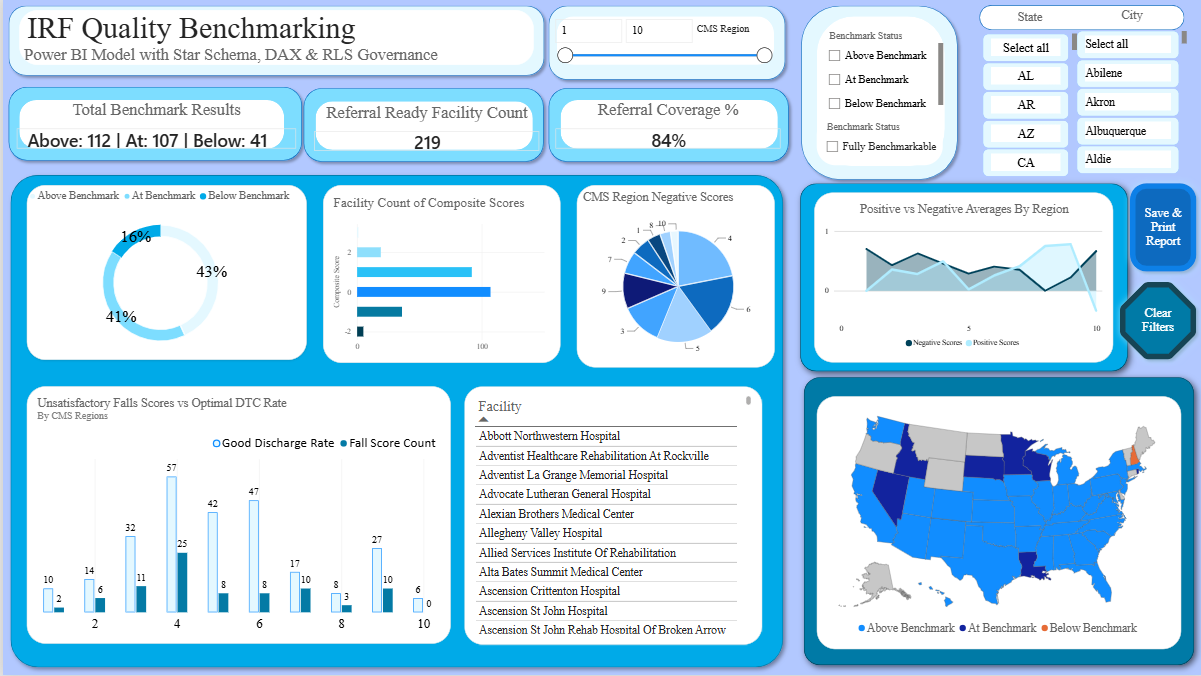

Layout of this report page (visuals, bound fields, positions):
{"tool":"powerbi","page":{"name":"Dashboard","canvas":[1920,1080],"ordinal":0},"visuals":[{"type":"shape","box":[0,0,875,130],"z":0},{"type":"shape","box":[0,130.4,487.2,135.8],"z":1000},{"type":"textbox","box":[25,16.7,823.3,88.3],"z":2000},{"type":"shape","box":[25.4,159.4,423.8,77.9],"z":3000},{"type":"cardVisual","title":"Total Benchmark Results","fields":{"Data":["irf_composite_index.Composite KPI Summary"]},"box":[21.7,159.4,447.4,77.9],"z":4000},{"type":"shape","box":[472.8,132.2,402.1,135.8],"z":5000},{"type":"shape","box":[499.9,161.2,347.8,77.9],"z":6000},{"type":"cardVisual","title":"Referral Ready Facility Count","fields":{"Data":["irf_composite_index.Referral-Ready Facilities"]},"box":[498.1,163,360.5,77.9],"z":7000},{"type":"shape","box":[864,132.2,402.1,135.8],"z":8000},{"type":"shape","box":[891.2,159.4,347.8,77.9],"z":9000},{"type":"shape","box":[0,268.3,1260,811.7],"z":10000},{"type":"cardVisual","title":"Referral Coverage %","fields":{"Data":["irf_composite_index.Referral Coverage %"]},"box":[883.9,159.4,360.5,77.9],"z":11000},{"type":"clusteredBarChart","title":"Facility Count of Composite Scores","fields":{"Category":["irf_composite_index.composite_score"],"Y":["CountNonNull(irf_composite_index.ccn)"]},"box":[511.7,296.7,380,285],"z":12000},{"type":"shape","box":[863.3,0,396.7,136.7],"z":13000},{"type":"shape","box":[886.7,26.7,347.8,77.9],"z":14000},{"type":"slicer","fields":{"Values":["irf_composite_index.cms_region"]},"box":[876.7,25,358.3,90],"z":15000},{"type":"textbox","box":[1110,35,105,35],"z":16000},{"type":"shape","box":[1268.3,0,268.3,296.7],"z":17000},{"type":"shape","box":[1301.7,25,205,240],"z":18000},{"type":"textbox","box":[1322,0,246,150],"z":19000},{"type":"shape","box":[1260,278.3,555,331.7],"z":20000},{"type":"slicer","fields":{"Values":["irf_composite_index.benchmark_status"]},"box":[1301.7,186.7,201.7,78.3],"z":21000},{"type":"slicer","fields":{"Values":["irf_composite_index.composite_score_measures"]},"box":[1313.3,48.3,190,131.7],"z":22000},{"type":"shape","box":[1561.7,8.3,328.3,40],"z":24000},{"type":"shape","box":[1265,588.3,655,491.7],"z":25000},{"type":"advancedSlicerVisual","title":"City","fields":{"Values":["irf_composite_index.city"]},"box":[1718.3,11.7,176.7,266.7],"z":26000},{"type":"advancedSlicerVisual","title":"State","fields":{"Values":["irf_composite_index.state"]},"box":[1568.3,15,150,266.7],"z":27000},{"type":"tableEx","title":"Facilities","fields":{"Values":["irf_composite_index.provider_name"]},"box":[738.3,618.3,476.7,413.3],"z":28000},{"type":"donutChart","fields":{"Series":["irf_composite_index.composite_score_measures"],"Y":["Divide(CountNonNull(irf_composite_index.composite_score_measures), ScopedEval(CountNonNull(irf_composite_index.composite"]},"box":[38.3,296.7,448.3,280],"z":29000},{"type":"clusteredColumnChart","title":"Unsatisfactory Falls Scores vs Optimal DTC Rate  ","fields":{"Category":["irf_composite_index.cms_region"],"Y":["CountNonNull(irf_facility_scorecard.dtc_rs_rate_pct)","Sum(irf_composite_index.falls_score)"]},"box":[38.3,618.3,678.3,411.7],"z":30000},{"type":"shapeMap","fields":{"Category":["irf_composite_index.state"],"Series":["irf_composite_index.composite_score_measures"]},"box":[1301.7,633.3,583.3,405],"z":31000},{"type":"pieChart","title":"CMS Region Negative Scores ","fields":{"Category":["irf_facility_scorecard.cms_region"],"Y":["CountNonNull(irf_composite_index.Negative Score Count)"]},"box":[918.3,296.7,316.7,291.7],"z":33000},{"type":"lineChart","title":" Positive vs Negative Averages By Region","fields":{"Category":["irf_facility_scorecard.cms_region"],"Y":["Avg(irf_composite_index.Negative Score Count)","Avg(irf_composite_index.composite_score)"]},"box":[1298.3,308.3,478.3,271.7],"z":34000},{"type":"actionButton","title":"Save & Print Report","box":[1792,282,128.3,163.3],"z":35000},{"type":"actionButton","title":"Save & Print Report","box":[1776,440,144,146],"z":35001}]}

Visuals, with their boxes in screenshot pixels (x1, y1, x2, y2), scaled from the page's 1920x1080 canvas onto the 1201x676 screenshot:
shape: rect(0, 0, 547, 81)
shape: rect(0, 82, 305, 167)
textbox: rect(16, 10, 531, 66)
shape: rect(16, 100, 281, 149)
"Total Benchmark Results" cardVisual: rect(14, 100, 293, 149)
shape: rect(296, 83, 547, 168)
shape: rect(313, 101, 530, 150)
"Referral Ready Facility Count" cardVisual: rect(312, 102, 537, 151)
shape: rect(540, 83, 792, 168)
shape: rect(557, 100, 775, 149)
shape: rect(0, 168, 788, 675)
"Referral Coverage %" cardVisual: rect(553, 100, 778, 149)
"Facility Count of Composite Scores" clusteredBarChart: rect(320, 186, 558, 364)
shape: rect(540, 0, 788, 86)
shape: rect(555, 17, 772, 65)
slicer - irf_composite_index.cms_region: rect(548, 16, 773, 72)
textbox: rect(694, 22, 760, 44)
shape: rect(793, 0, 961, 186)
shape: rect(814, 16, 942, 166)
textbox: rect(827, 0, 981, 94)
shape: rect(788, 174, 1135, 382)
slicer - irf_composite_index.benchmark_status: rect(814, 117, 940, 166)
slicer - irf_composite_index.composite_score_measures: rect(821, 30, 940, 113)
shape: rect(977, 5, 1182, 30)
shape: rect(791, 368, 1200, 675)
"City" advancedSlicerVisual: rect(1075, 7, 1185, 174)
"State" advancedSlicerVisual: rect(981, 9, 1075, 176)
"Facilities" tableEx: rect(462, 387, 760, 646)
donutChart - irf_composite_index.composite_score_measures x Divide(CountNonNull(irf_composite_index.composite_score_measures), ScopedEval(CountNonNull(irf_composite_index.composite: rect(24, 186, 304, 361)
"Unsatisfactory Falls Scores vs Optimal DTC Rate  " clusteredColumnChart: rect(24, 387, 448, 645)
shapeMap - irf_composite_index.state x irf_composite_index.composite_score_measures: rect(814, 396, 1179, 650)
"CMS Region Negative Scores " pieChart: rect(574, 186, 773, 368)
" Positive vs Negative Averages By Region" lineChart: rect(812, 193, 1111, 363)
"Save & Print Report" actionButton: rect(1121, 177, 1200, 279)
"Save & Print Report" actionButton: rect(1111, 275, 1200, 367)
